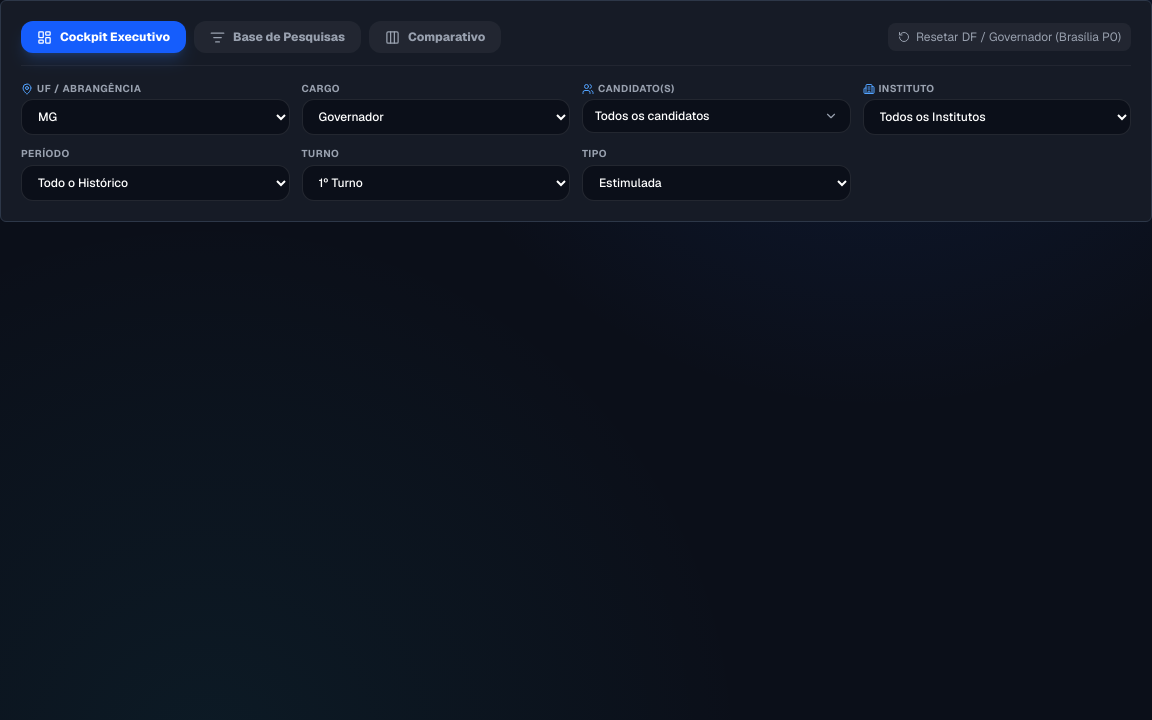
Scenario: PesquisasFilterBar — dropdown de candidatos (P0.2 da auditoria) › sem candidatos na corrida, mostra mensagem em vez de lista vazia silenciosa
Step 1. Click the button "Todos os candidatos" → [652, 116], box [582,99,850,133]
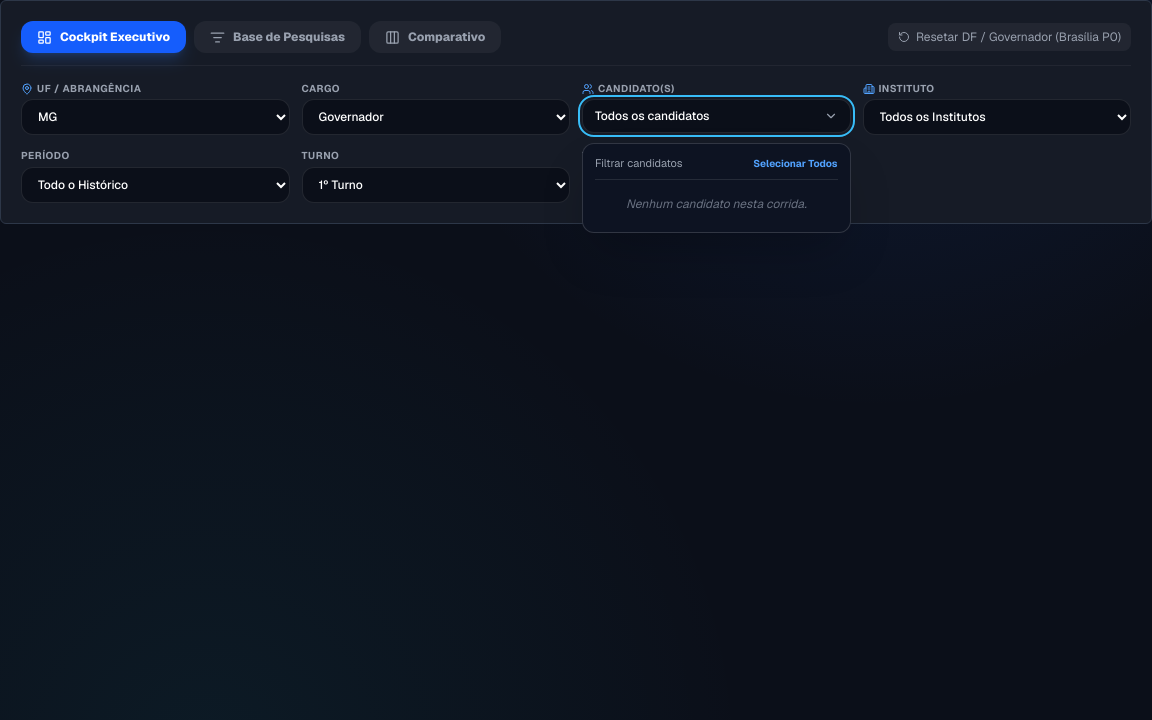
Check: the text "Nenhum candidato nesta corrida." is shown, box [626,196,807,212]
